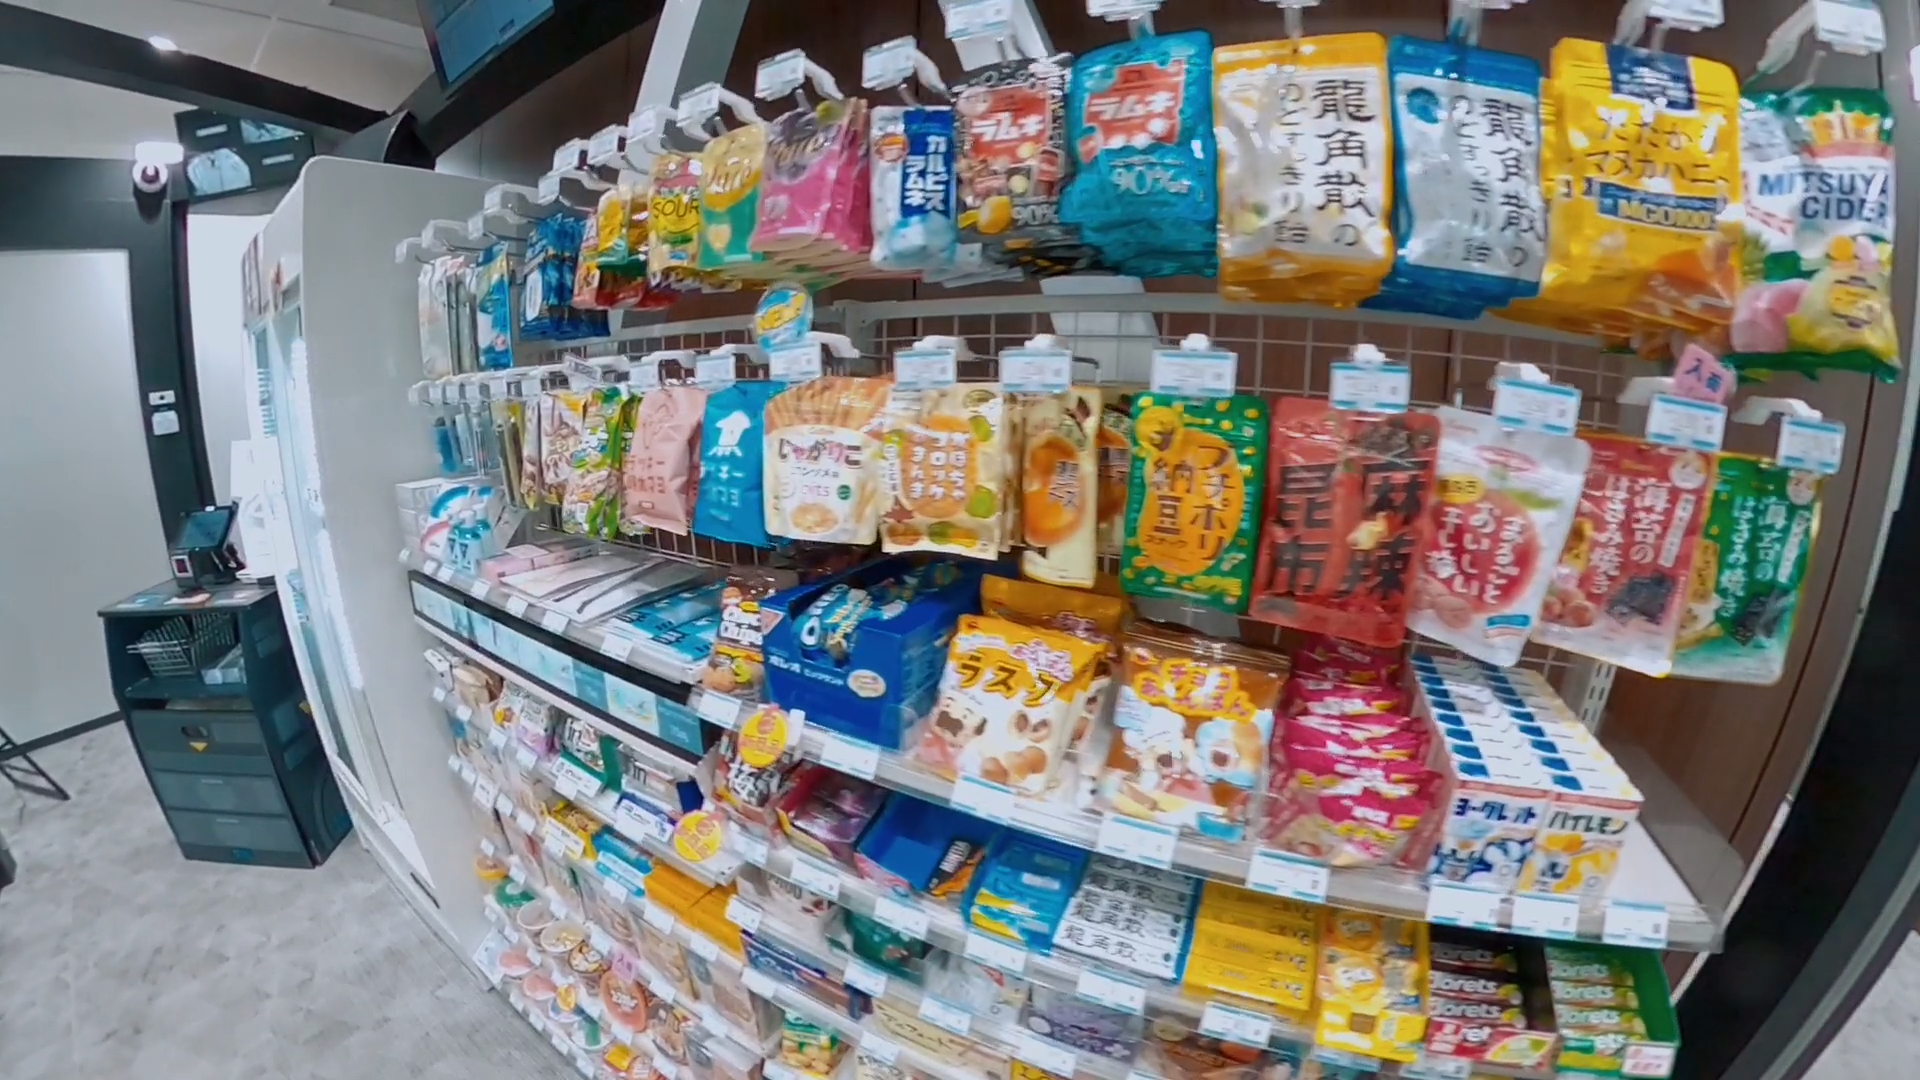NorinoHasamiyaki: (1677, 446, 1833, 688)
